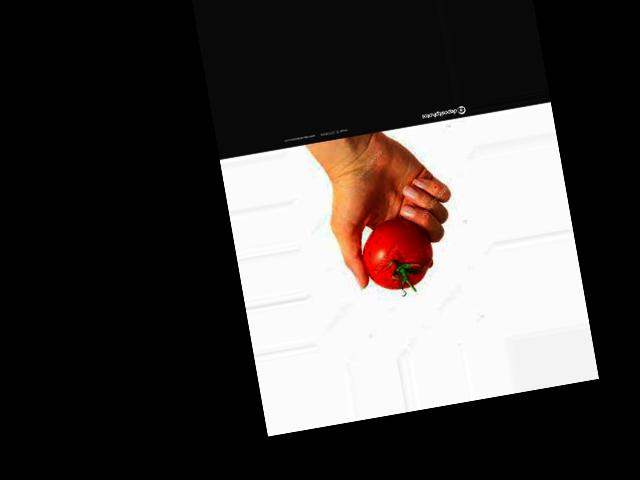tomato: (357, 213, 436, 294)
